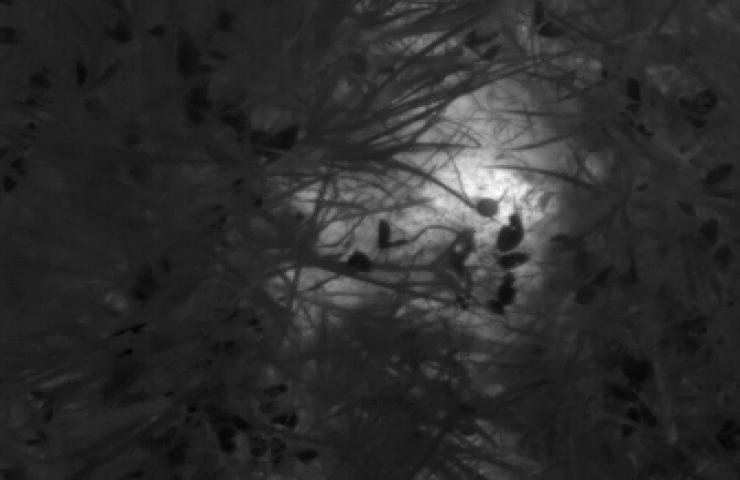landmines: (233, 28, 606, 359)
